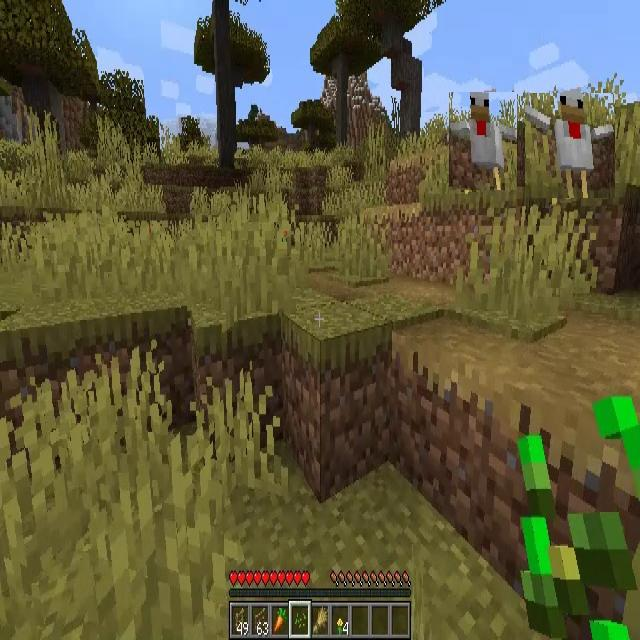duck: (525, 93, 615, 198), (449, 92, 517, 190)
